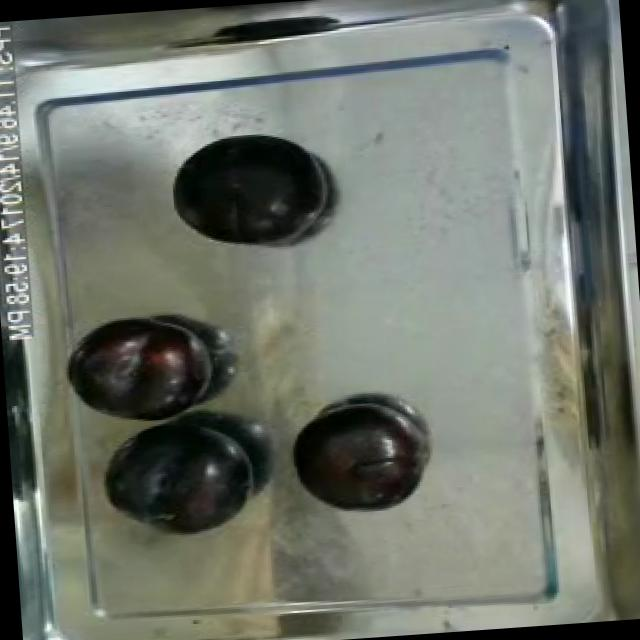Fruit: (94, 405, 262, 542), (162, 123, 334, 256), (61, 314, 220, 429), (284, 396, 428, 520)
